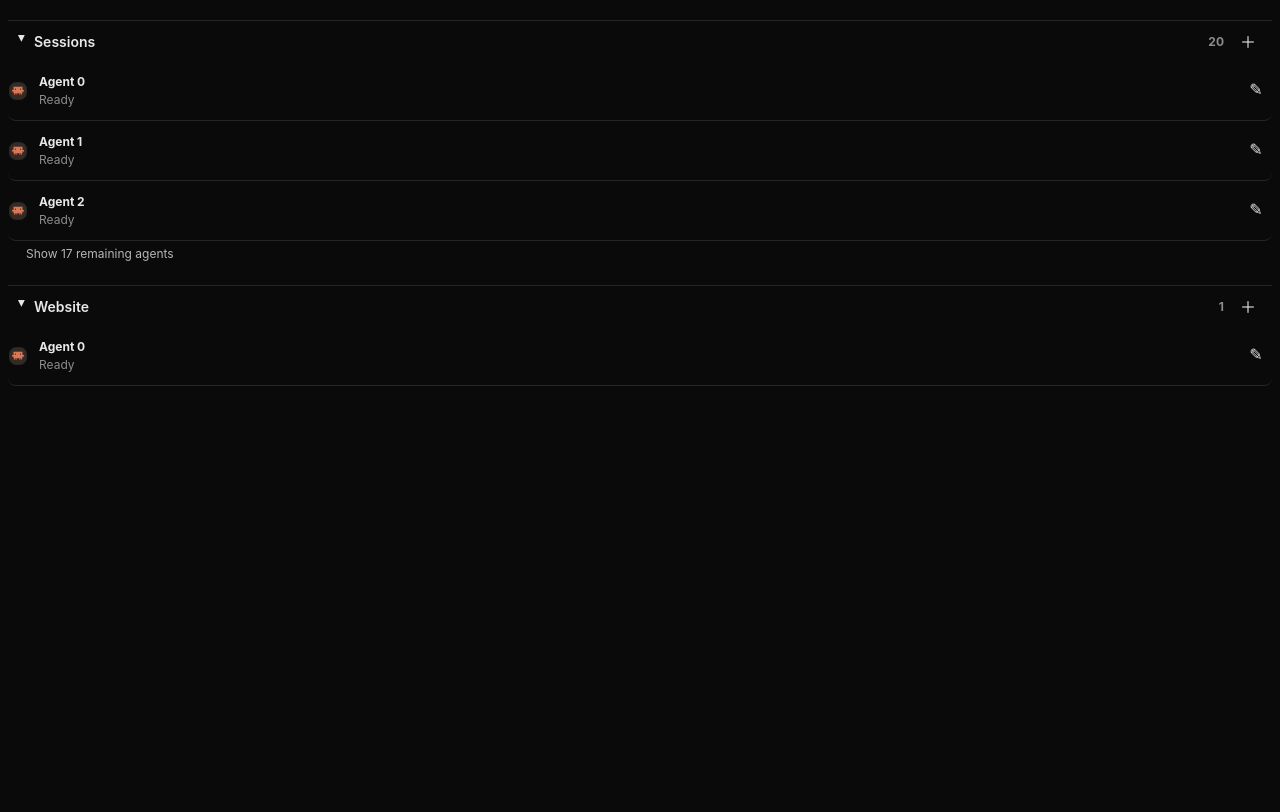
Test: project agents › counts every fleet agent beside Add and independently reveals and collapses groups
The width and height of the screenshot is (1280, 812).
Expected: the button named "Add agent to Sessions" is shown, [1232,25,1264,57]
Expected: the number of buttons named "Rename" is 3, [1240,73,1272,105]; [1240,133,1272,165]; [1240,193,1272,225]
Click the button "Show 17 remaining agents". click: point(100, 254)
box: [8,241,1272,273]
(page scrolled)
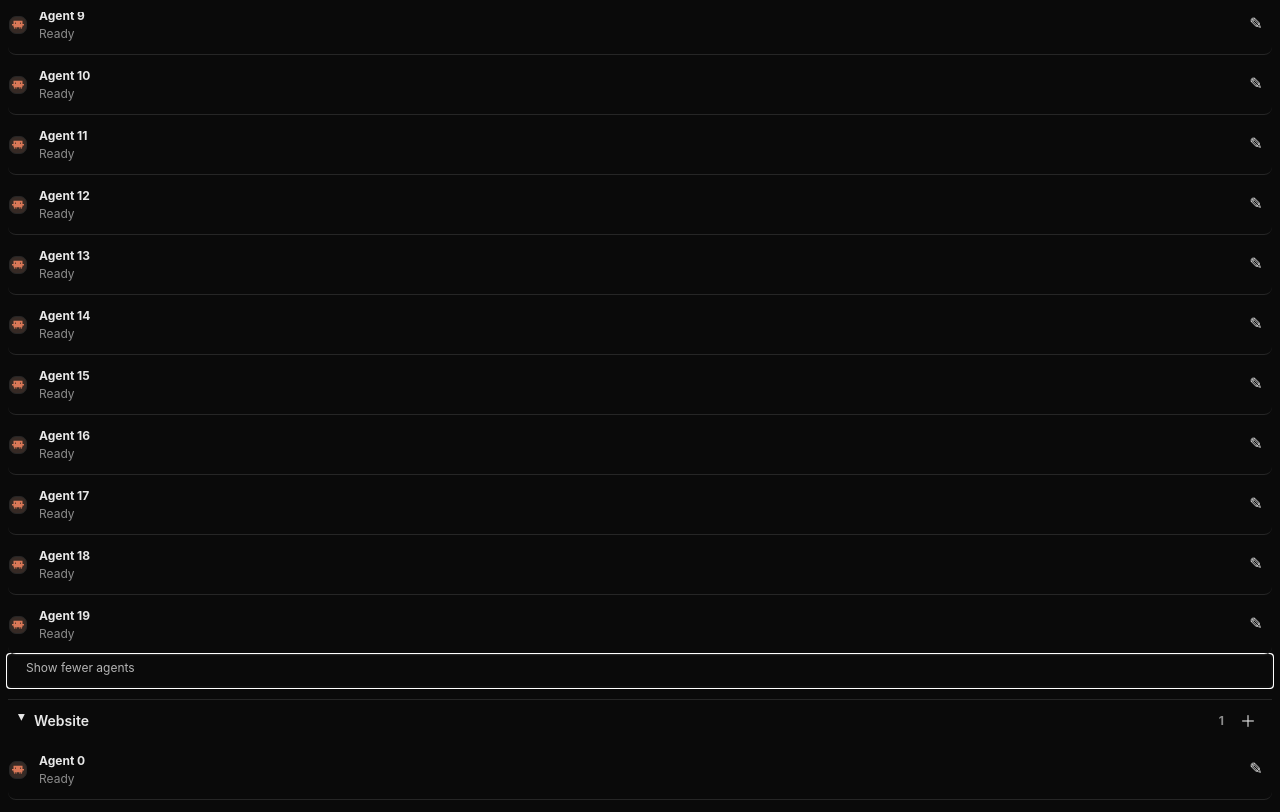
Click the button "Show fewer agents". click: point(80, 668)
box: [8,655,1272,687]
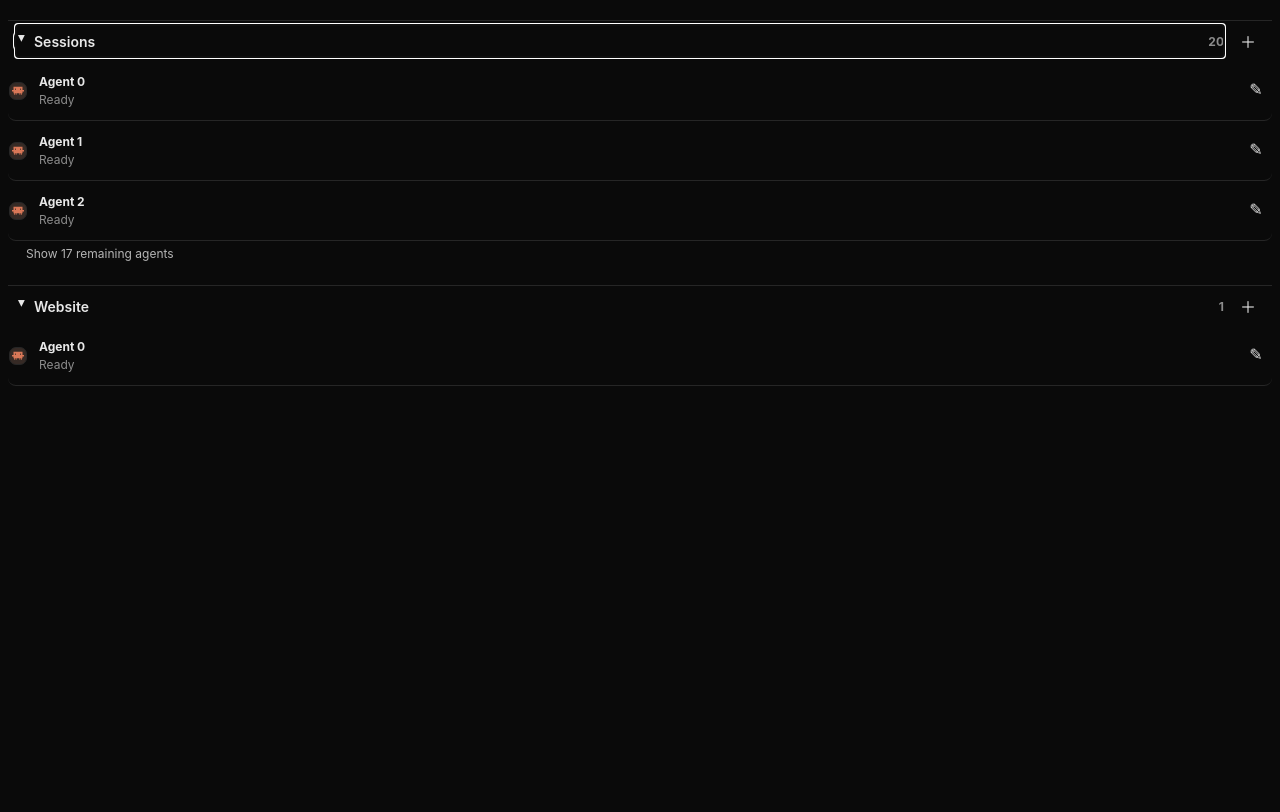
Press Enter
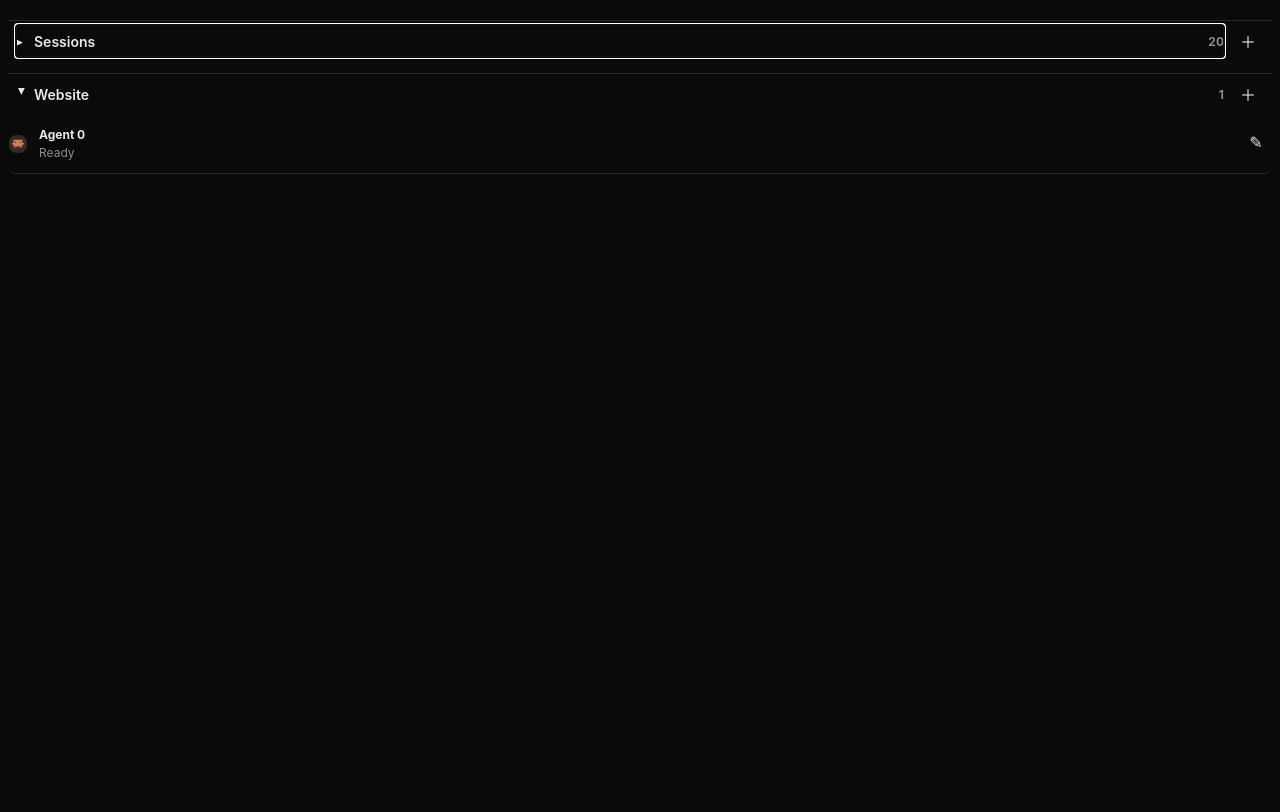
Expected: the button named "Rename Agent 0" is shown, [1240,126,1272,158]
Expected: the button "▸ Sessions 20" is collapsed, [16,25,1224,57]
Type keys " "
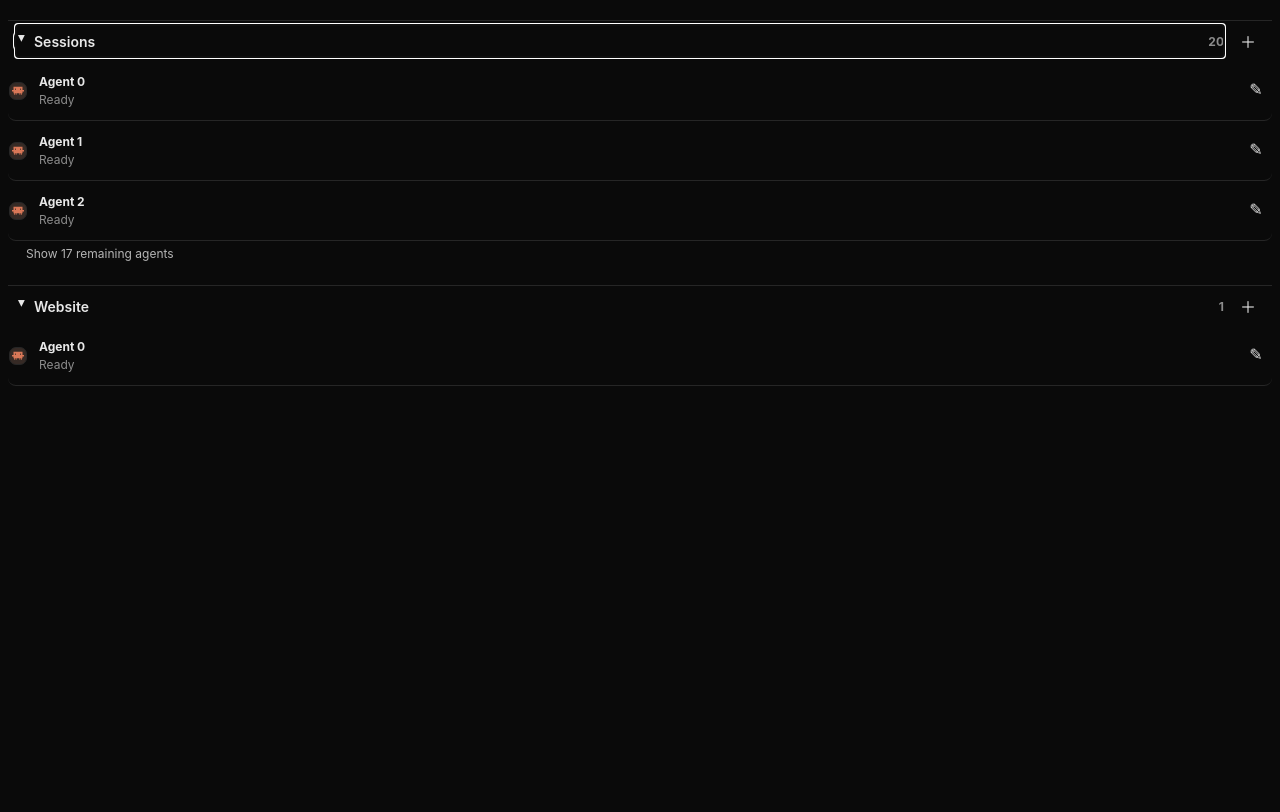
Expected: the number of buttons named "Rename" is 3, [1240,73,1272,105]; [1240,133,1272,165]; [1240,193,1272,225]
